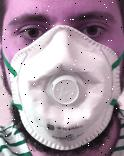with_mask: (2, 1, 124, 156)
